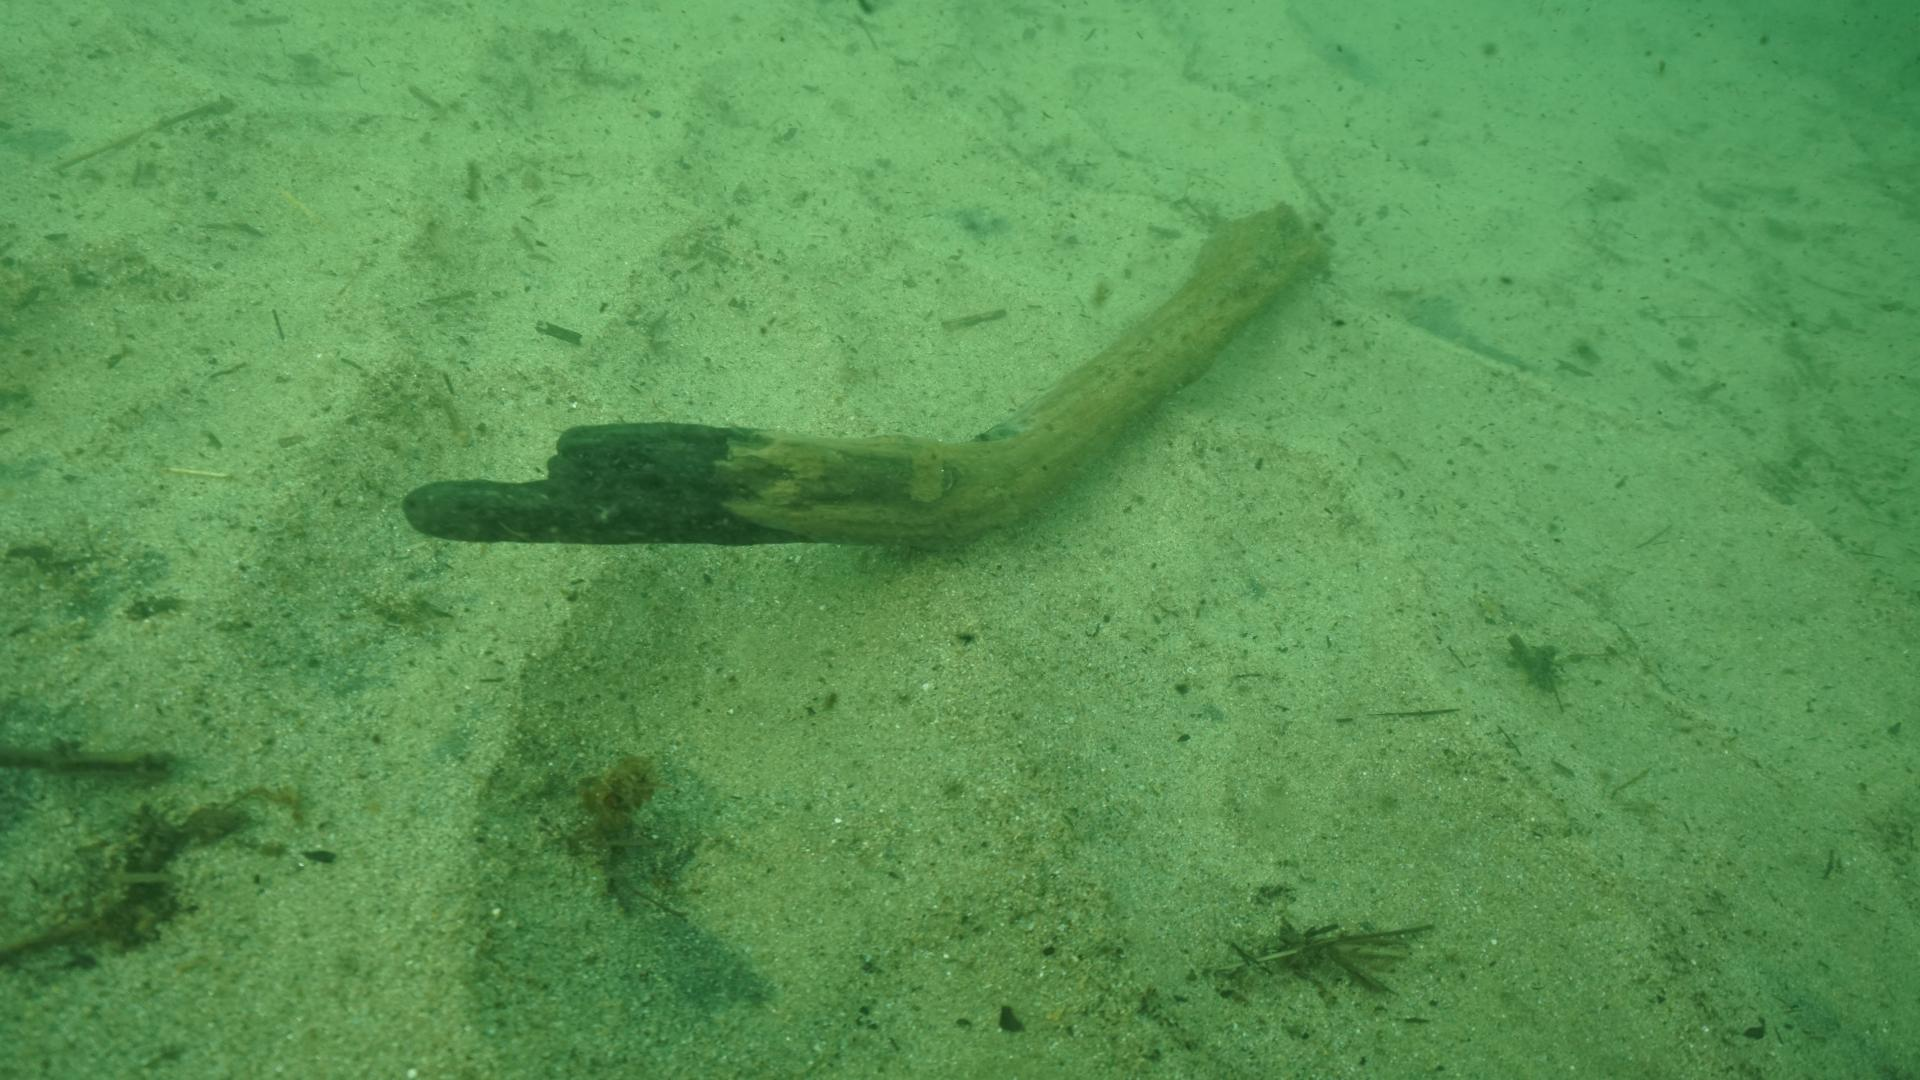wood: (401, 204, 1324, 545)
